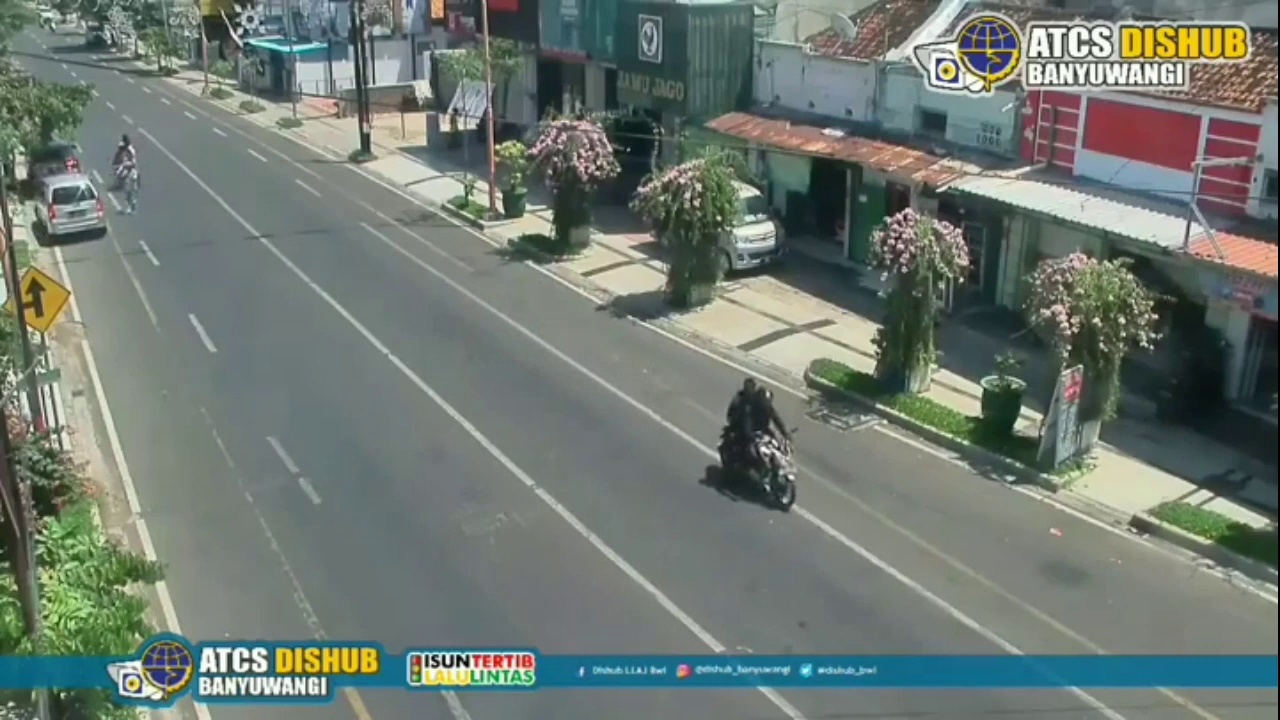car: (722, 171, 785, 281), (35, 170, 106, 242)
motorbike: (709, 377, 801, 512)
